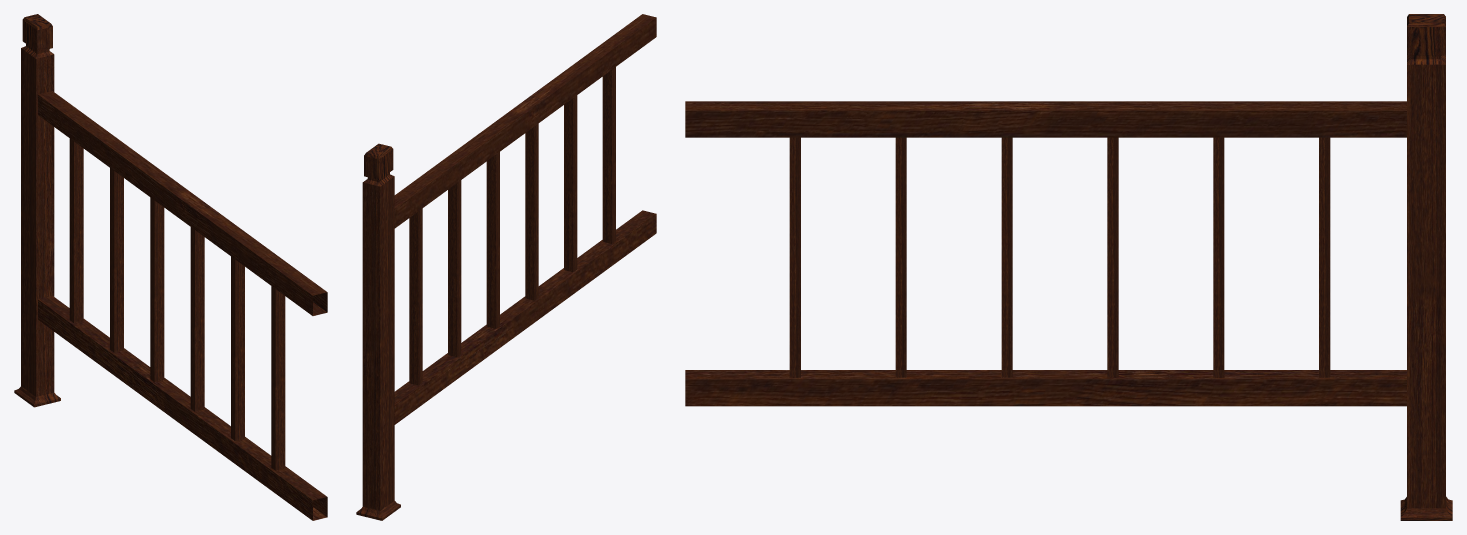
Rendered from fence_stair_straight.fbx.
3 renders of one model, left to right at view 1: azimuth 30°, elevation 25°; view 2: azimuth 150°, elevation 25°; view 3: azimuth 270°, elevation 25°, orthographic. The views are drawn at different scales.
Visible parts, largest first — view 1: fence_stair_straight; view 2: fence_stair_straight; view 3: fence_stair_straight.
Part boxes in pixels (x1,y1,x2,y2): fence_stair_straight: (14,14,327,520); fence_stair_straight: (356,14,656,520); fence_stair_straight: (685,14,1452,520).
Size of the model in its own units: 11 by 147 by 207.
